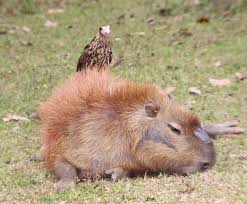capivara: (41, 69, 217, 184)
